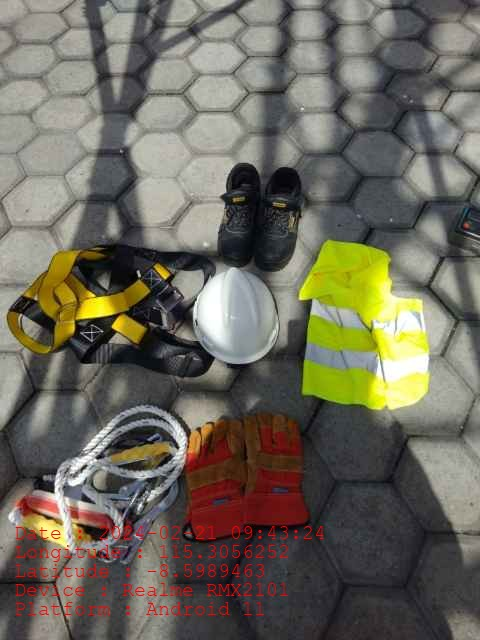HELM: (193, 267, 278, 364)
ROMPI: (302, 235, 422, 410)
SEPATU: (217, 162, 303, 273)
